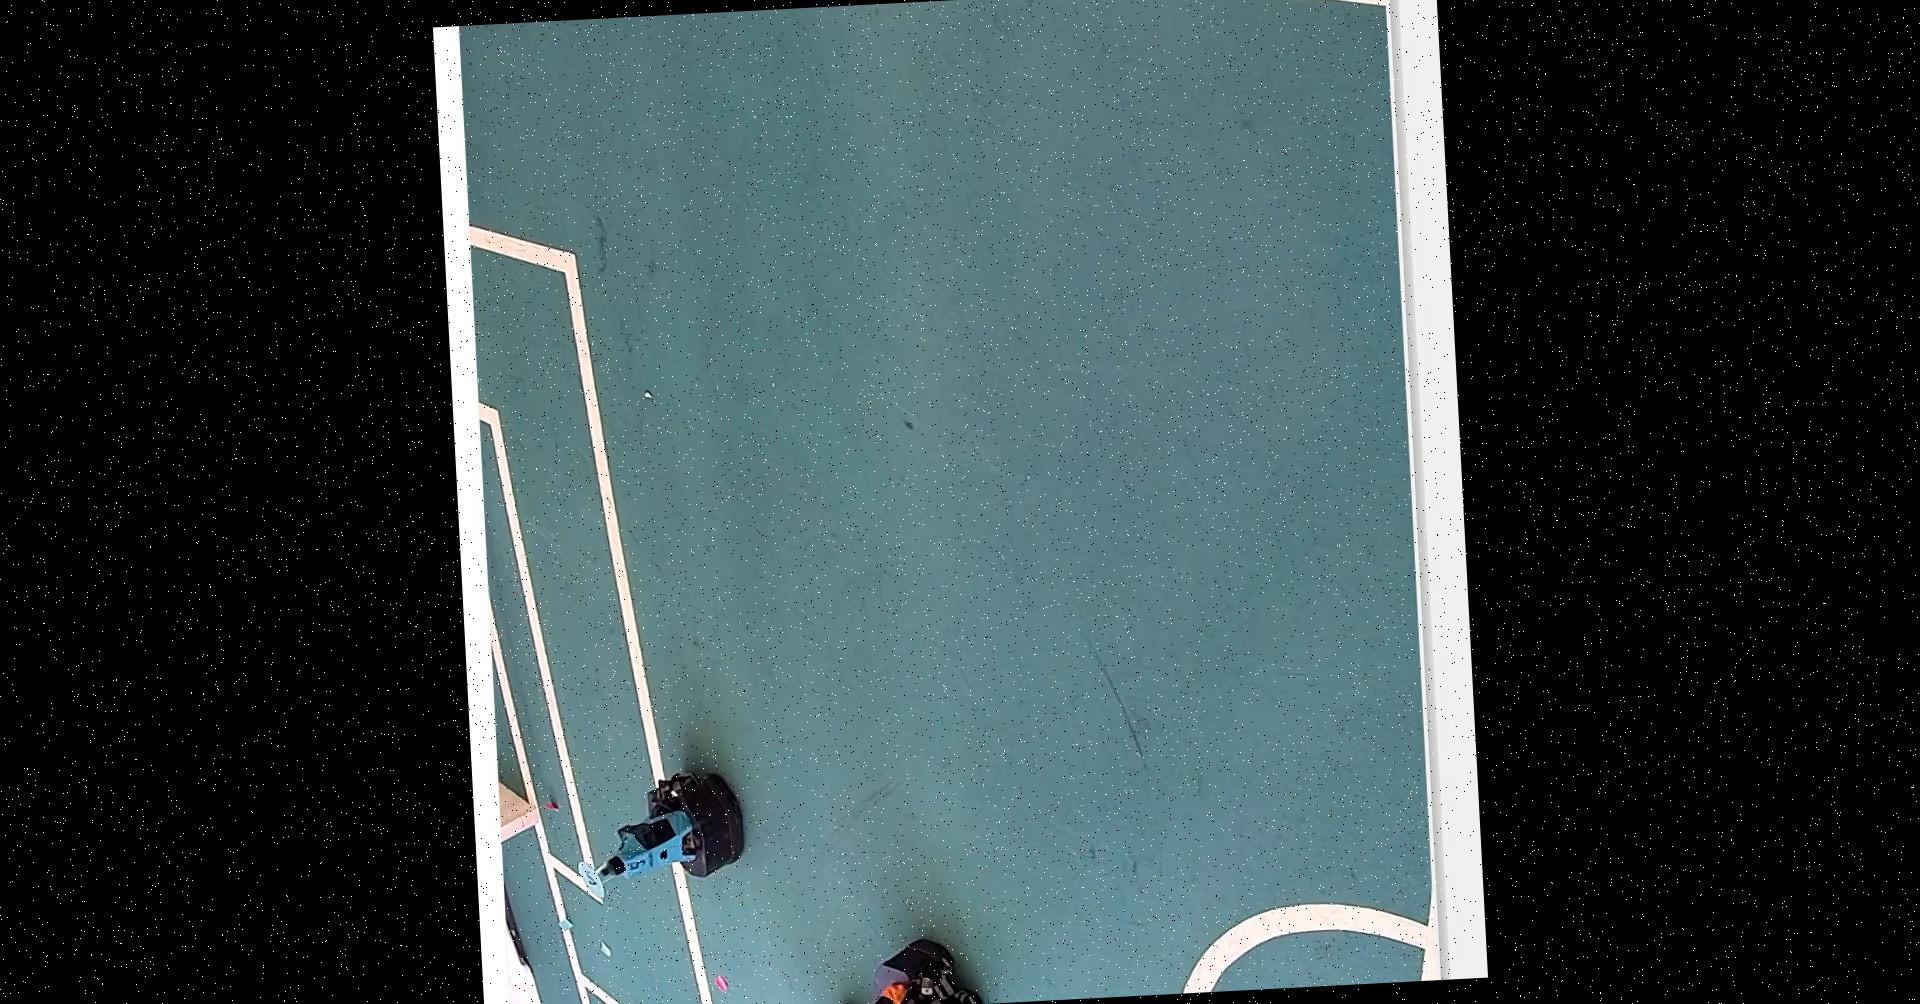Team_Blue: (563, 754, 750, 902)
Team_Red: (791, 930, 982, 1004)
